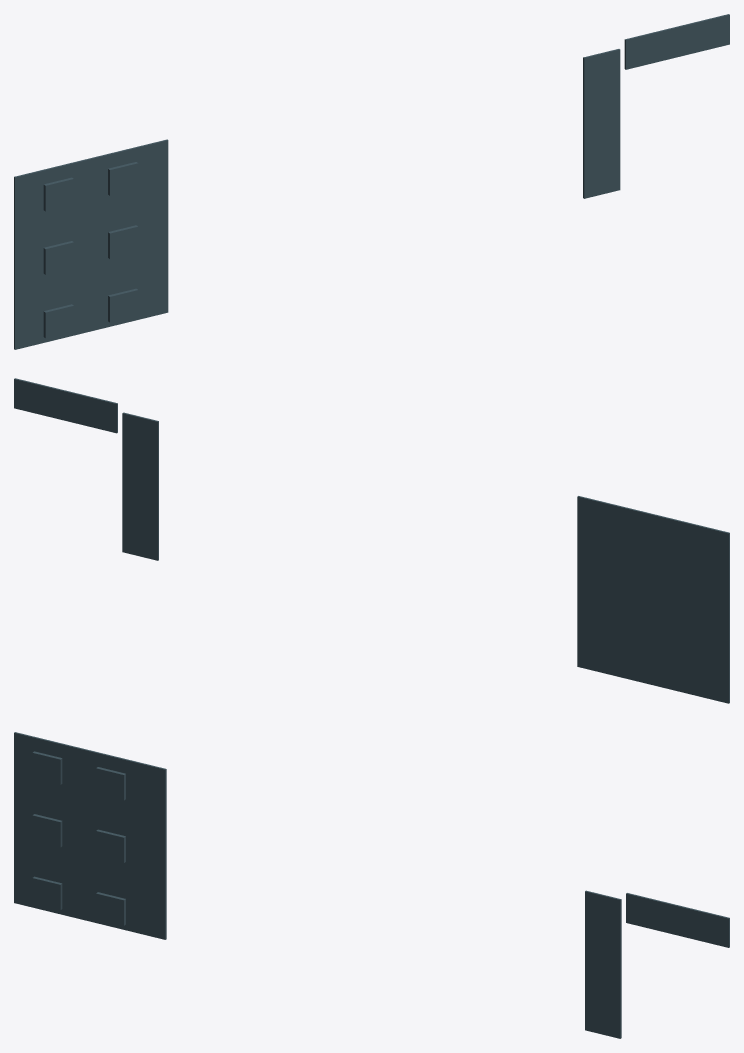
The model's file is buildings_roof_dark.obj.
3 views of the same model, one above another, from view 1: azimuth 30°, elevation 25°; view 2: azimuth 150°, elevation 25°; view 3: azimuth 330°, elevation 25° (orthographic).
Bounding box in the file's own units: 1.9 × 0.435 × 0.052.
